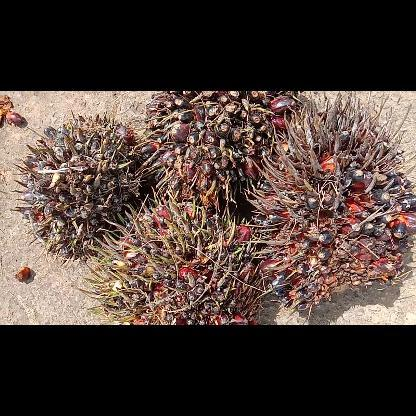TBS abnormal: (256, 91, 413, 315), (100, 202, 272, 324), (143, 91, 303, 213), (23, 113, 147, 252)
